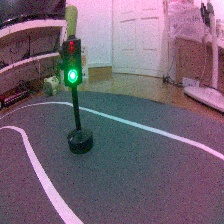green: (57, 34, 96, 153)
